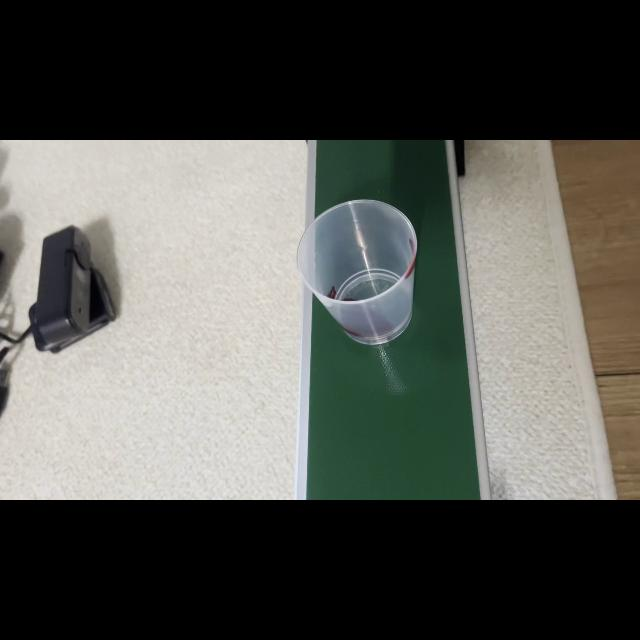dirty: (312, 206, 418, 342)
